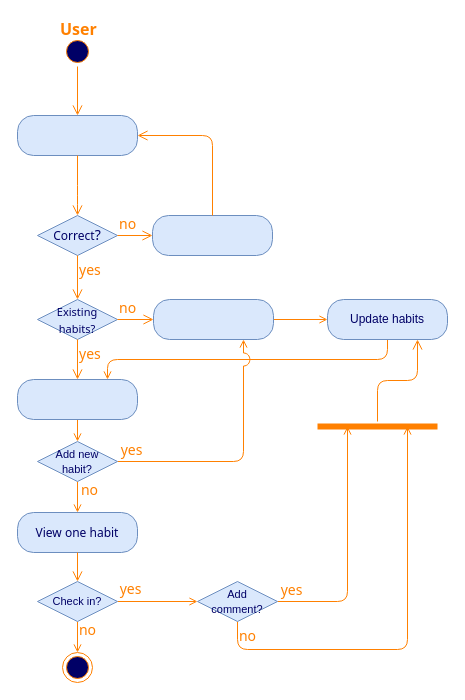
The diagram is 465 pixels wide and 700 high, and some of its shapes have lost their labels. Here are the shapes that lost their labels. From the top down, the box of each, then its label:
(16, 114, 138, 156): Log into the app
(152, 214, 272, 256): Display error
(152, 298, 274, 340): Enter a new habit
(16, 378, 138, 420): Display habits
